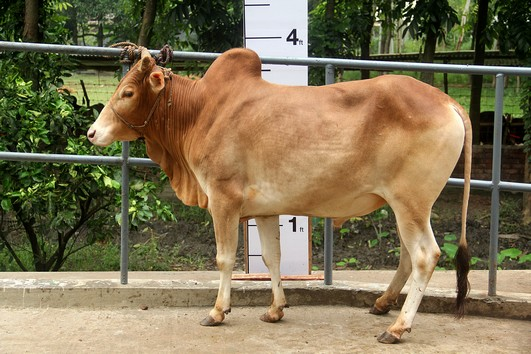cow: (84, 40, 475, 348)
